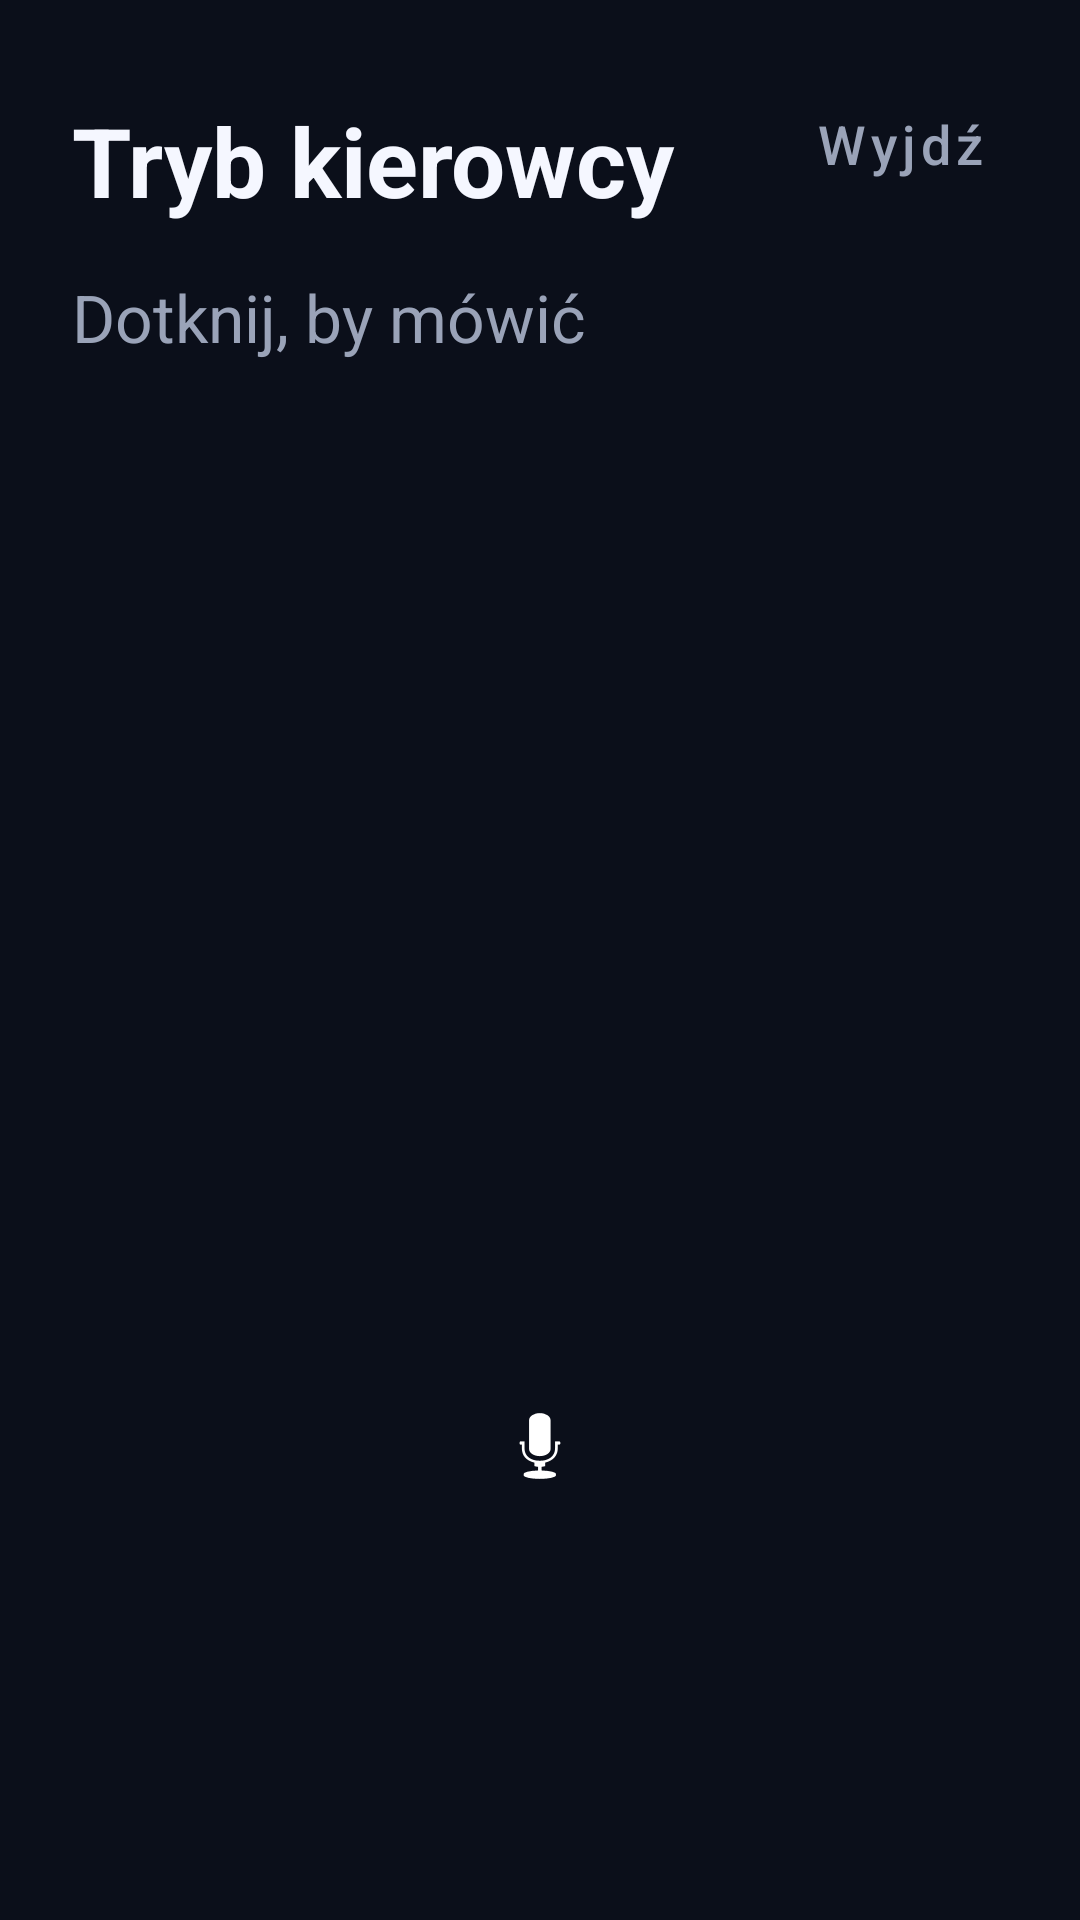

Where icons sit on this 1080 × 1920 app screen, as (x1, y1, x2, y2):
Mikrofon: (519, 1413, 561, 1479)
